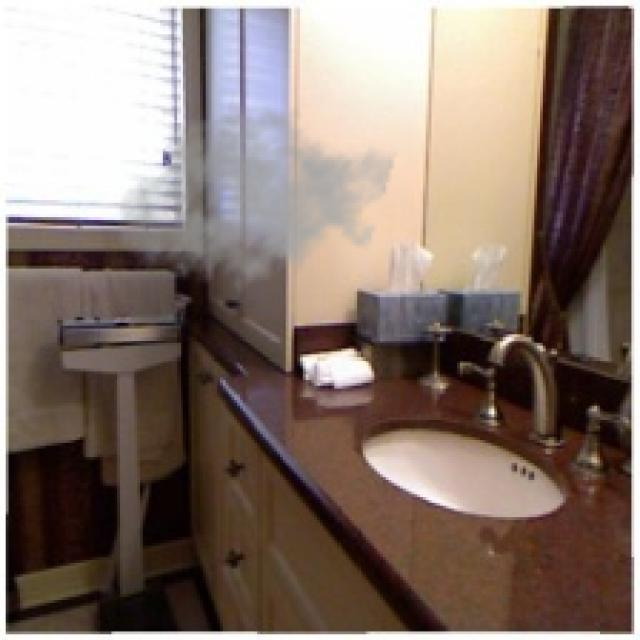Smoke: (114, 97, 397, 303)
